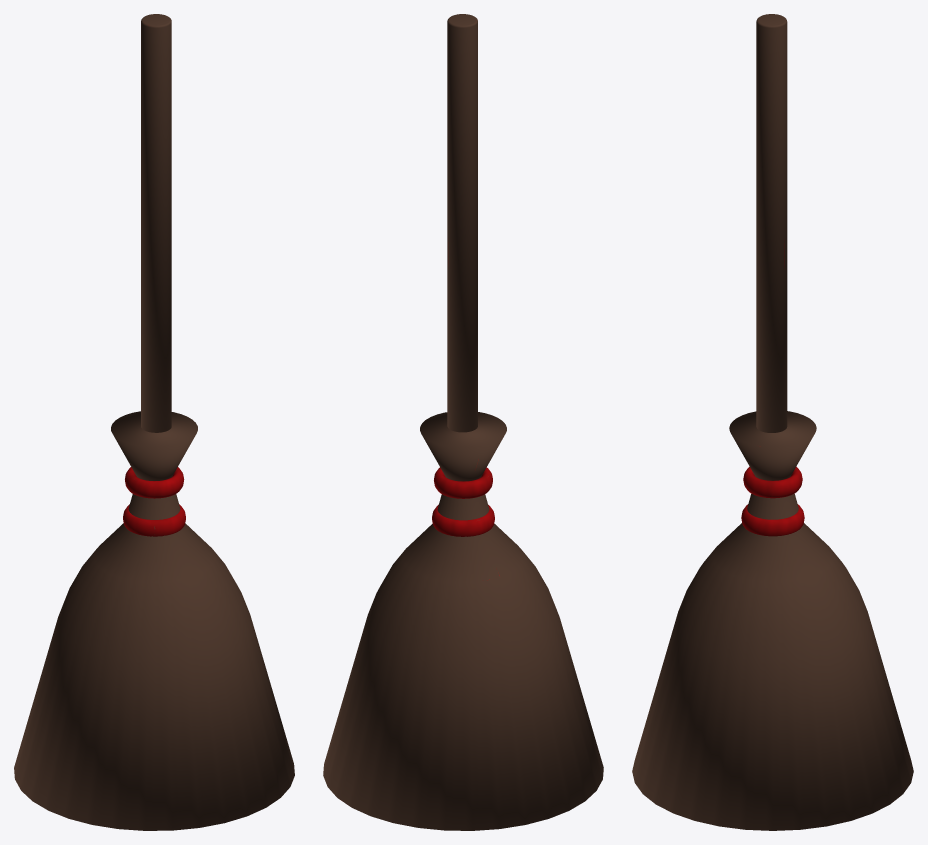
The model's file is houki_red.fbx.
3 views of the same model, side by side, from view 1: azimuth 30°, elevation 25°; view 2: azimuth 150°, elevation 25°; view 3: azimuth 270°, elevation 25° (orthographic).
Visible parts, largest first — view 1: トーラス.002; view 2: トーラス.002; view 3: トーラス.002.
Boxes of the visible parts, x1,y1,x2,y2 form: トーラス.002: [14, 14, 294, 830]; トーラス.002: [323, 14, 603, 830]; トーラス.002: [632, 14, 913, 830].
Bounding box in the file's own units: 0.3285 × 0.9678 × 0.3285.
